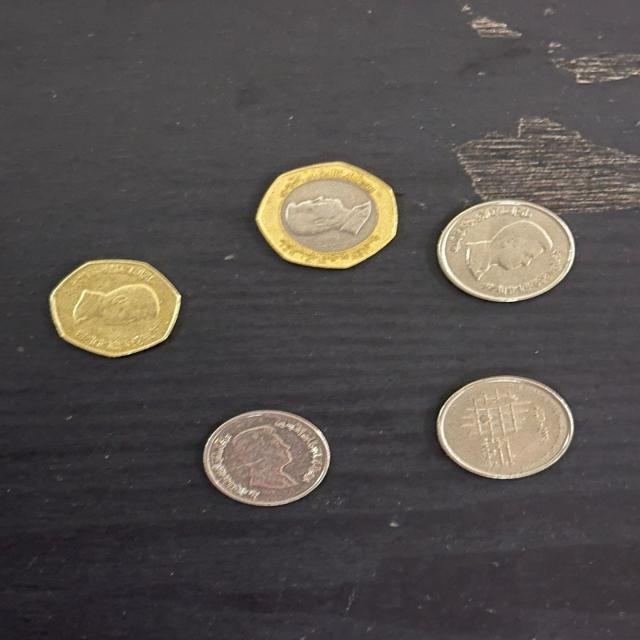10-coins: (436, 198, 580, 302), (436, 374, 576, 479)
25-coins: (50, 258, 184, 360)
5-coins: (198, 410, 332, 508)
50-coins: (254, 160, 402, 272)
